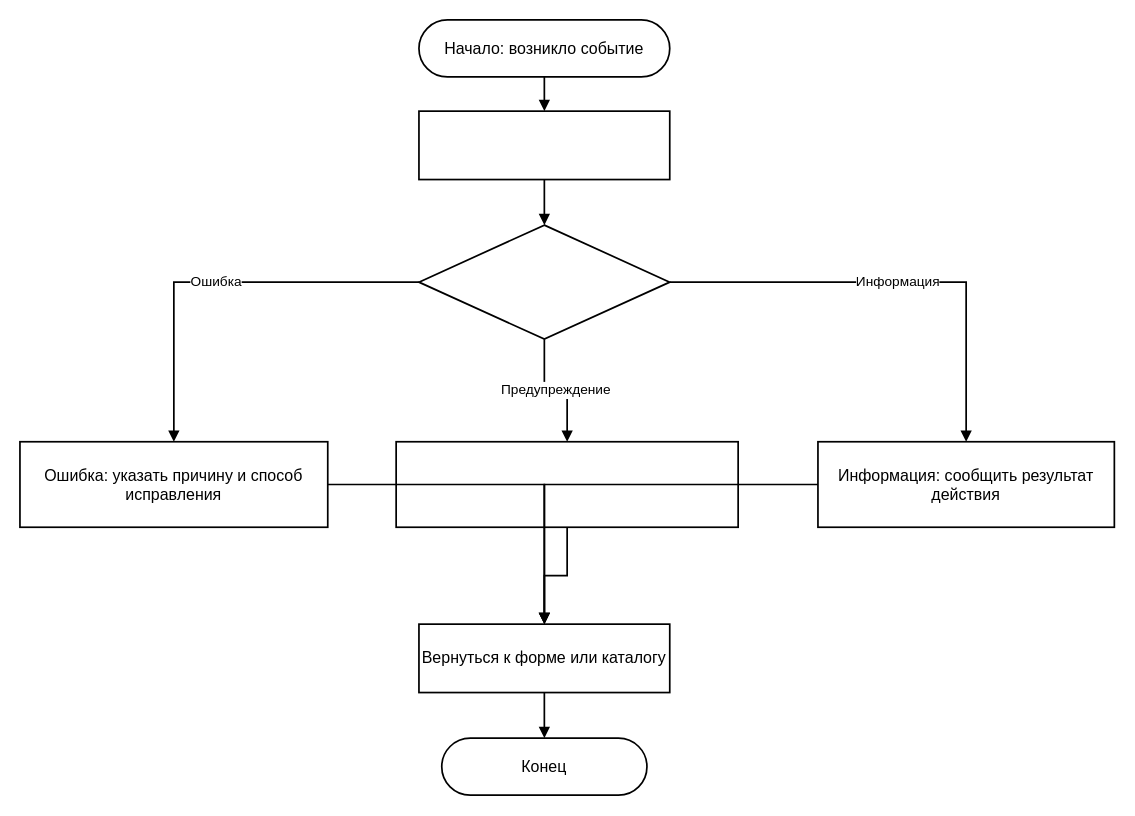
Some shapes in this 1135 by 816 pixel diagram are drawn without their labels. The shapes that lost their labels are listed below. From the top down, each one's centre as x and y in pixels, then its label:
(544,145): Определить тип события
(544,281): Тип события?
(566,484): Предупреждение: описать последствия и запросить подтверждение
